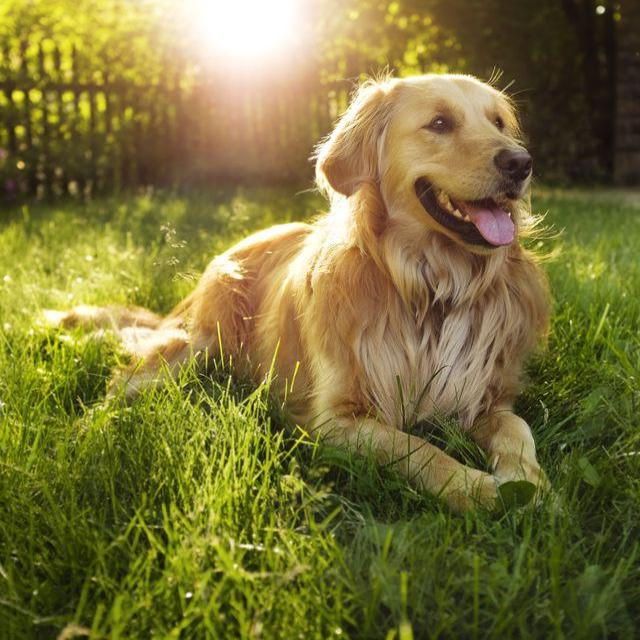Dog: (51, 14, 600, 555)
